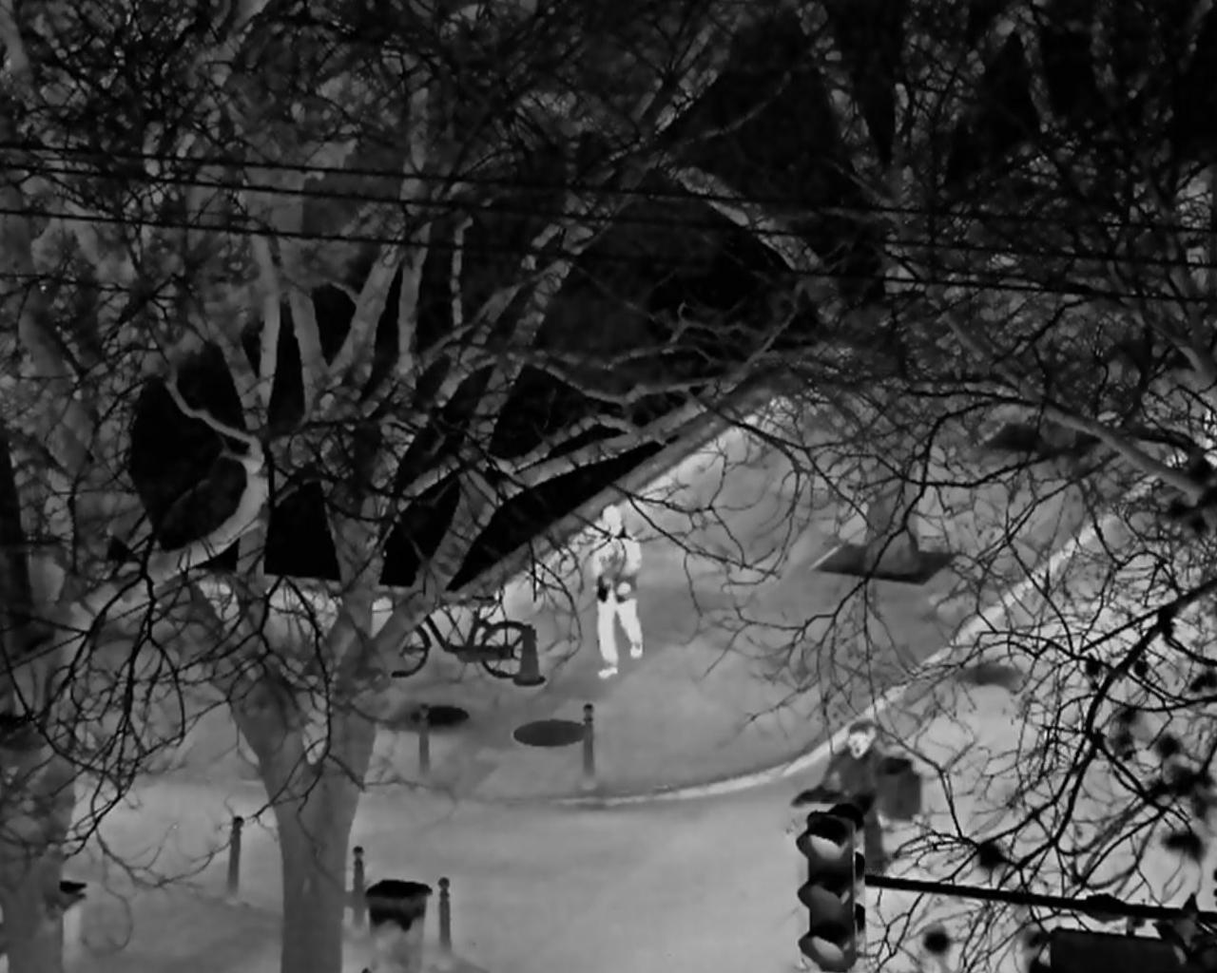person: (590, 504, 643, 677), (822, 722, 884, 802)
